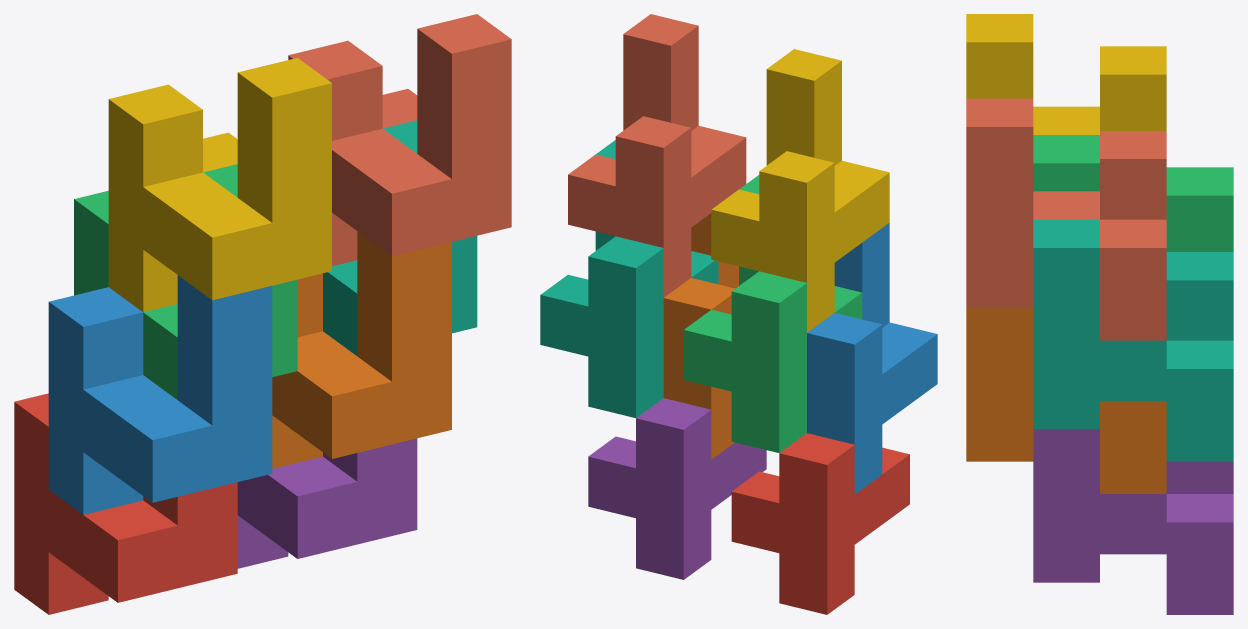
File: tiling.obj
3 views of the same model, side by side, from view 1: azimuth 30°, elevation 25°; view 2: azimuth 150°, elevation 25°; view 3: azimuth 270°, elevation 25° (orthographic). The views are drawn at different scales.
Parts seen in each view (by area): view 1: copy_1_domain_4, copy_1_domain_2, copy_1_domain_8, copy_1_domain_6, copy_1_domain_1, copy_1_domain_5, copy_1_domain_3, copy_1_domain_7; view 2: copy_1_domain_4, copy_1_domain_8, copy_1_domain_1, copy_1_domain_5, copy_1_domain_2, copy_1_domain_3, copy_1_domain_7, copy_1_domain_6; view 3: copy_1_domain_7, copy_1_domain_8, copy_1_domain_5, copy_1_domain_6, copy_1_domain_4, copy_1_domain_3.
Boxes of the visible parts, box(x1,y1,x2,y2) form: copy_1_domain_4: box(108, 58, 331, 312); copy_1_domain_2: box(48, 275, 272, 514); copy_1_domain_8: box(288, 14, 511, 266); copy_1_domain_6: box(272, 231, 451, 468); copy_1_domain_1: box(14, 393, 237, 614); copy_1_domain_5: box(237, 438, 417, 568); copy_1_domain_3: box(74, 164, 297, 399); copy_1_domain_7: box(323, 120, 477, 355); copy_1_domain_4: box(711, 49, 889, 332); copy_1_domain_8: box(568, 14, 746, 297); copy_1_domain_1: box(731, 433, 909, 614); copy_1_domain_5: box(588, 398, 766, 579); copy_1_domain_2: box(807, 223, 937, 494); copy_1_domain_3: box(683, 175, 862, 453); copy_1_domain_7: box(540, 140, 718, 417); copy_1_domain_6: box(663, 213, 738, 459); copy_1_domain_7: box(1033, 219, 1233, 461); copy_1_domain_8: box(966, 98, 1166, 340); copy_1_domain_5: box(1033, 429, 1233, 614); copy_1_domain_6: box(966, 308, 1166, 493); copy_1_domain_4: box(966, 14, 1166, 134); copy_1_domain_3: box(1033, 135, 1233, 251).
Size of the model in its own units: 6 by 9 by 4.
